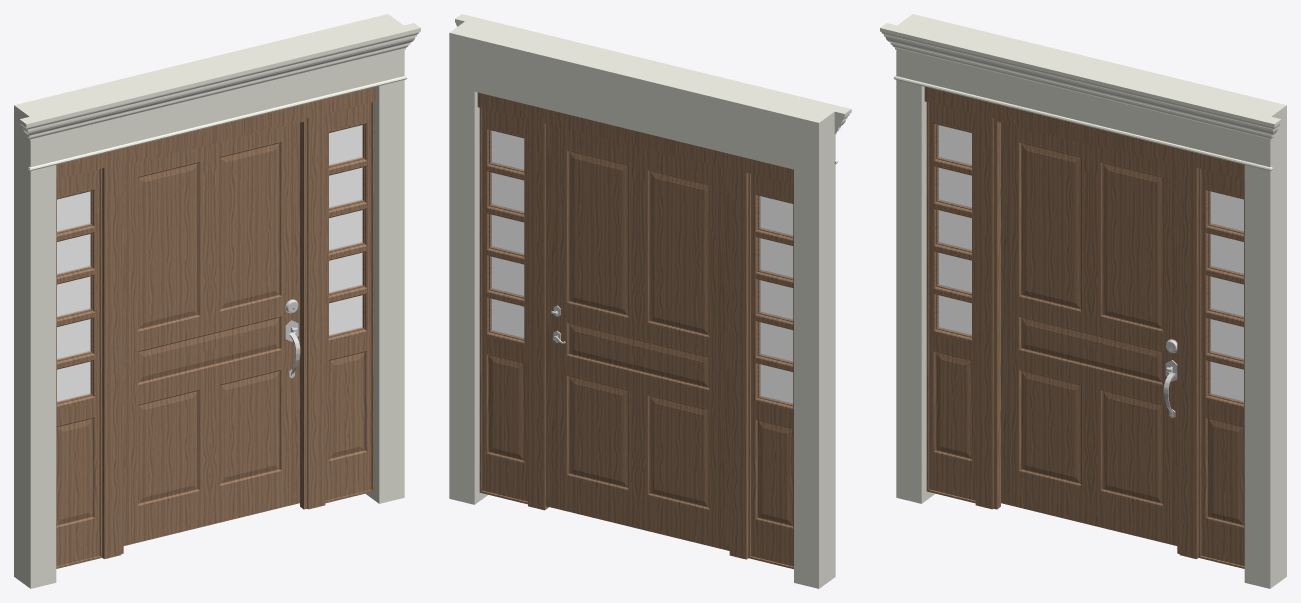
File: porte.glb
3 renders of one model, left to right at view 1: azimuth 30°, elevation 25°; view 2: azimuth 150°, elevation 25°; view 3: azimuth 330°, elevation 25°, orthographic.
Visible parts, largest first — view 1: Material2 (×36); view 2: Material2 (×36); view 3: Material2 (×36).
Boxes of the visible parts, left/top/right/bottom form: Material2 (×36): left=14, top=14, right=420, bottom=588; Material2 (×36): left=449, top=14, right=851, bottom=588; Material2 (×36): left=880, top=14, right=1286, bottom=588.
Size of the model in its own units: 91.34 by 104 by 9.06.
Materials: 4 (1 with a texture image).
